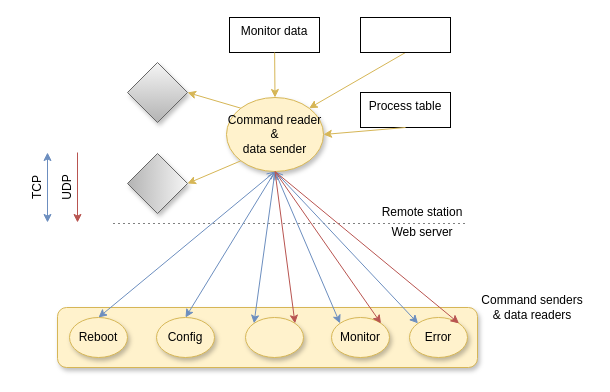
The diagram is 610 pixels wide and 392 high, and some of its shapes have lost their labels. Each missing label, with the centre of its shape:
Alarm ringbuffer: (x=405, y=34)
Process: (x=275, y=338)
reboot.sh: (x=158, y=184)
RTIS config: (x=158, y=94)
